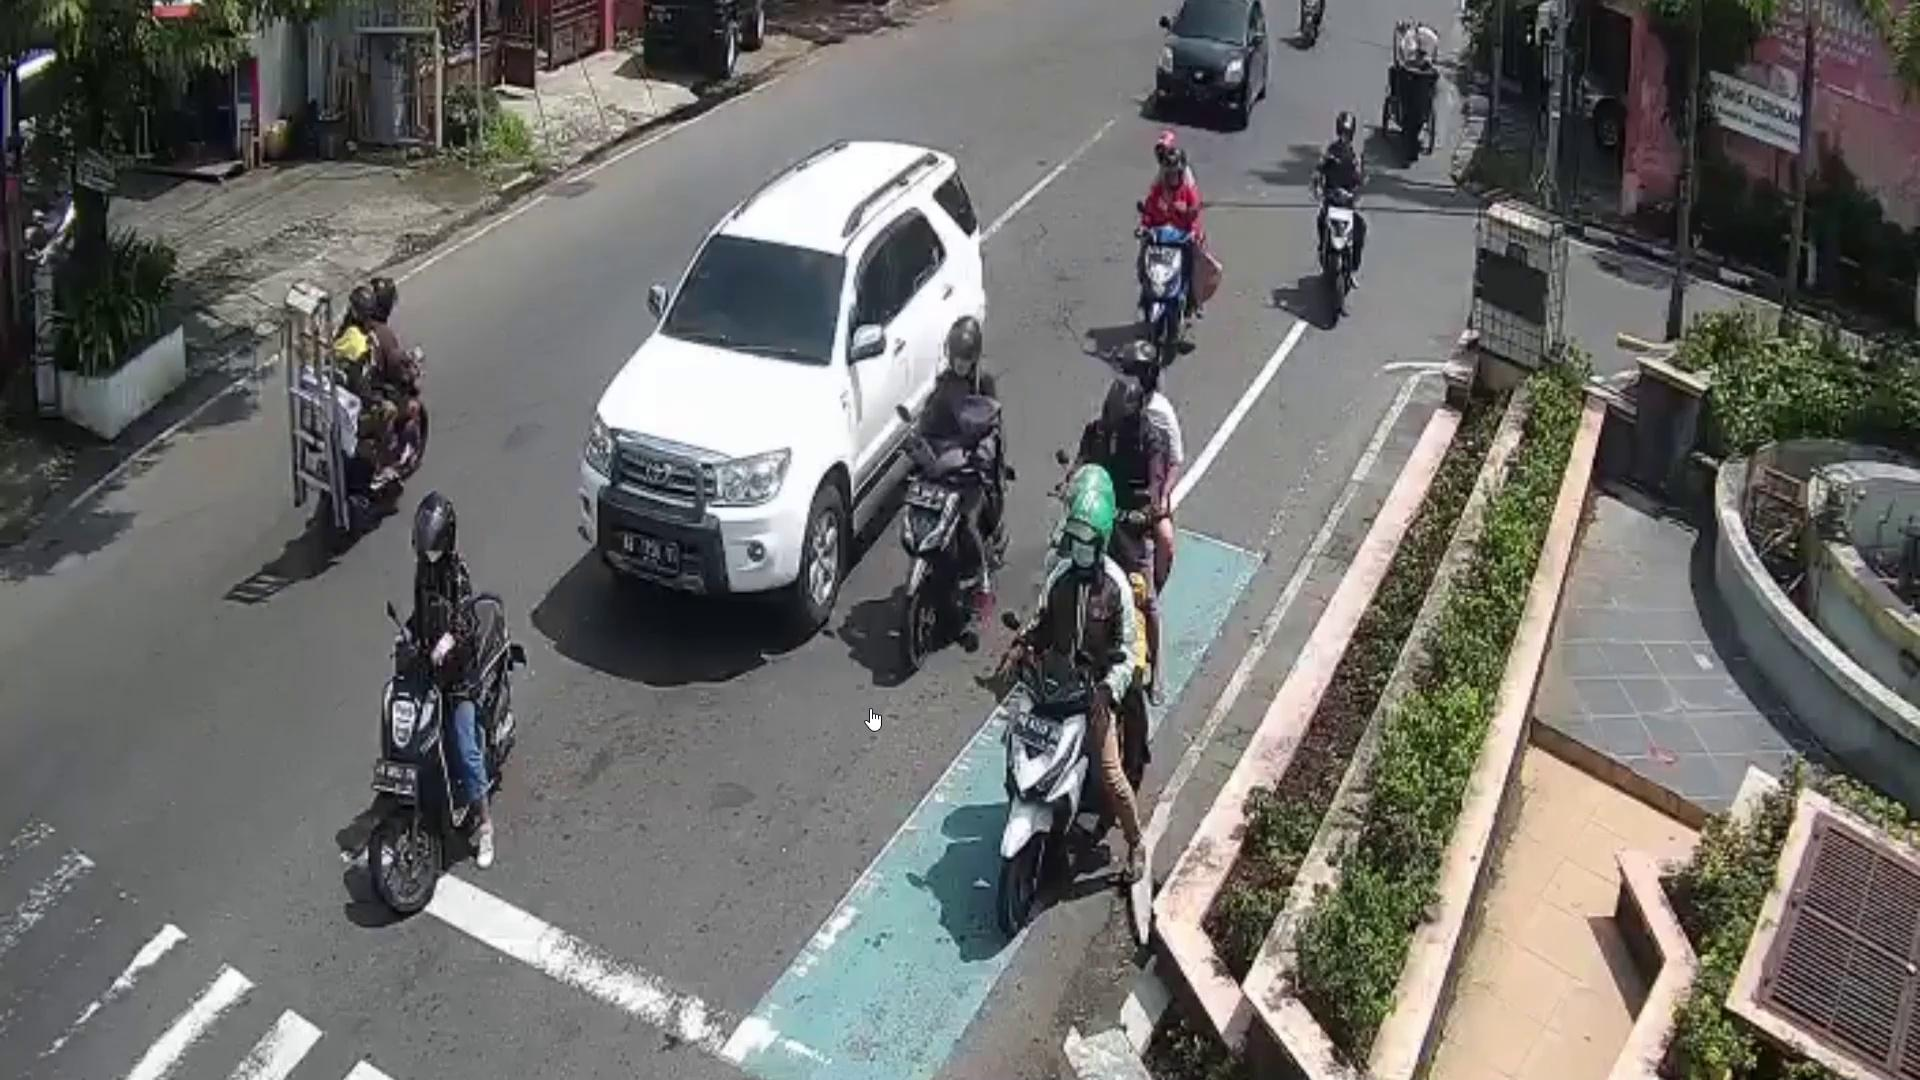car: (578, 135, 982, 632), (1158, 0, 1269, 127)
motorbike: (382, 589, 521, 914), (901, 397, 1005, 669), (1002, 651, 1097, 932), (363, 348, 427, 473), (1317, 183, 1358, 315), (1142, 220, 1180, 359)
